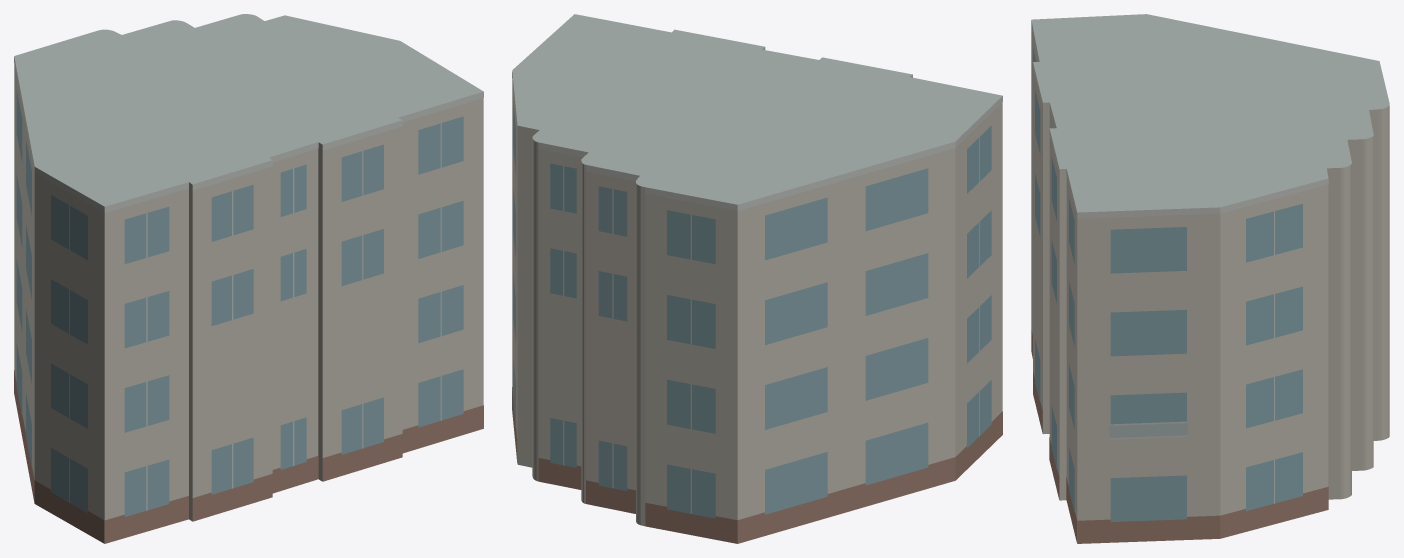
The model's file is survey-upis-32723453.glb.
3 renders of one model, left to right at view 1: azimuth 30°, elevation 25°; view 2: azimuth 150°, elevation 25°; view 3: azimuth 270°, elevation 25°, orthographic. The views are drawn at different scales.
Parts seen in each view (by area): view 1: survey-upis-32723453.tmp; view 2: survey-upis-32723453.tmp; view 3: survey-upis-32723453.tmp.
Boxes of the visible parts, <box> form: survey-upis-32723453.tmp: <box>14,14,483,543</box>; survey-upis-32723453.tmp: <box>512,14,1002,543</box>; survey-upis-32723453.tmp: <box>1031,14,1389,543</box>.
Size of the model in its own units: 16.78 by 13.05 by 12.79.
